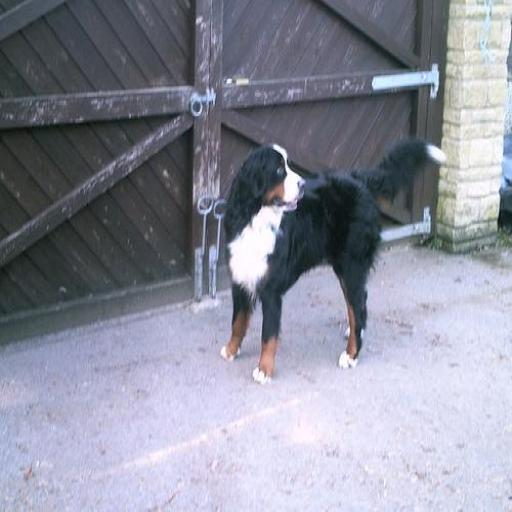dog_face: (237, 144, 306, 221)
